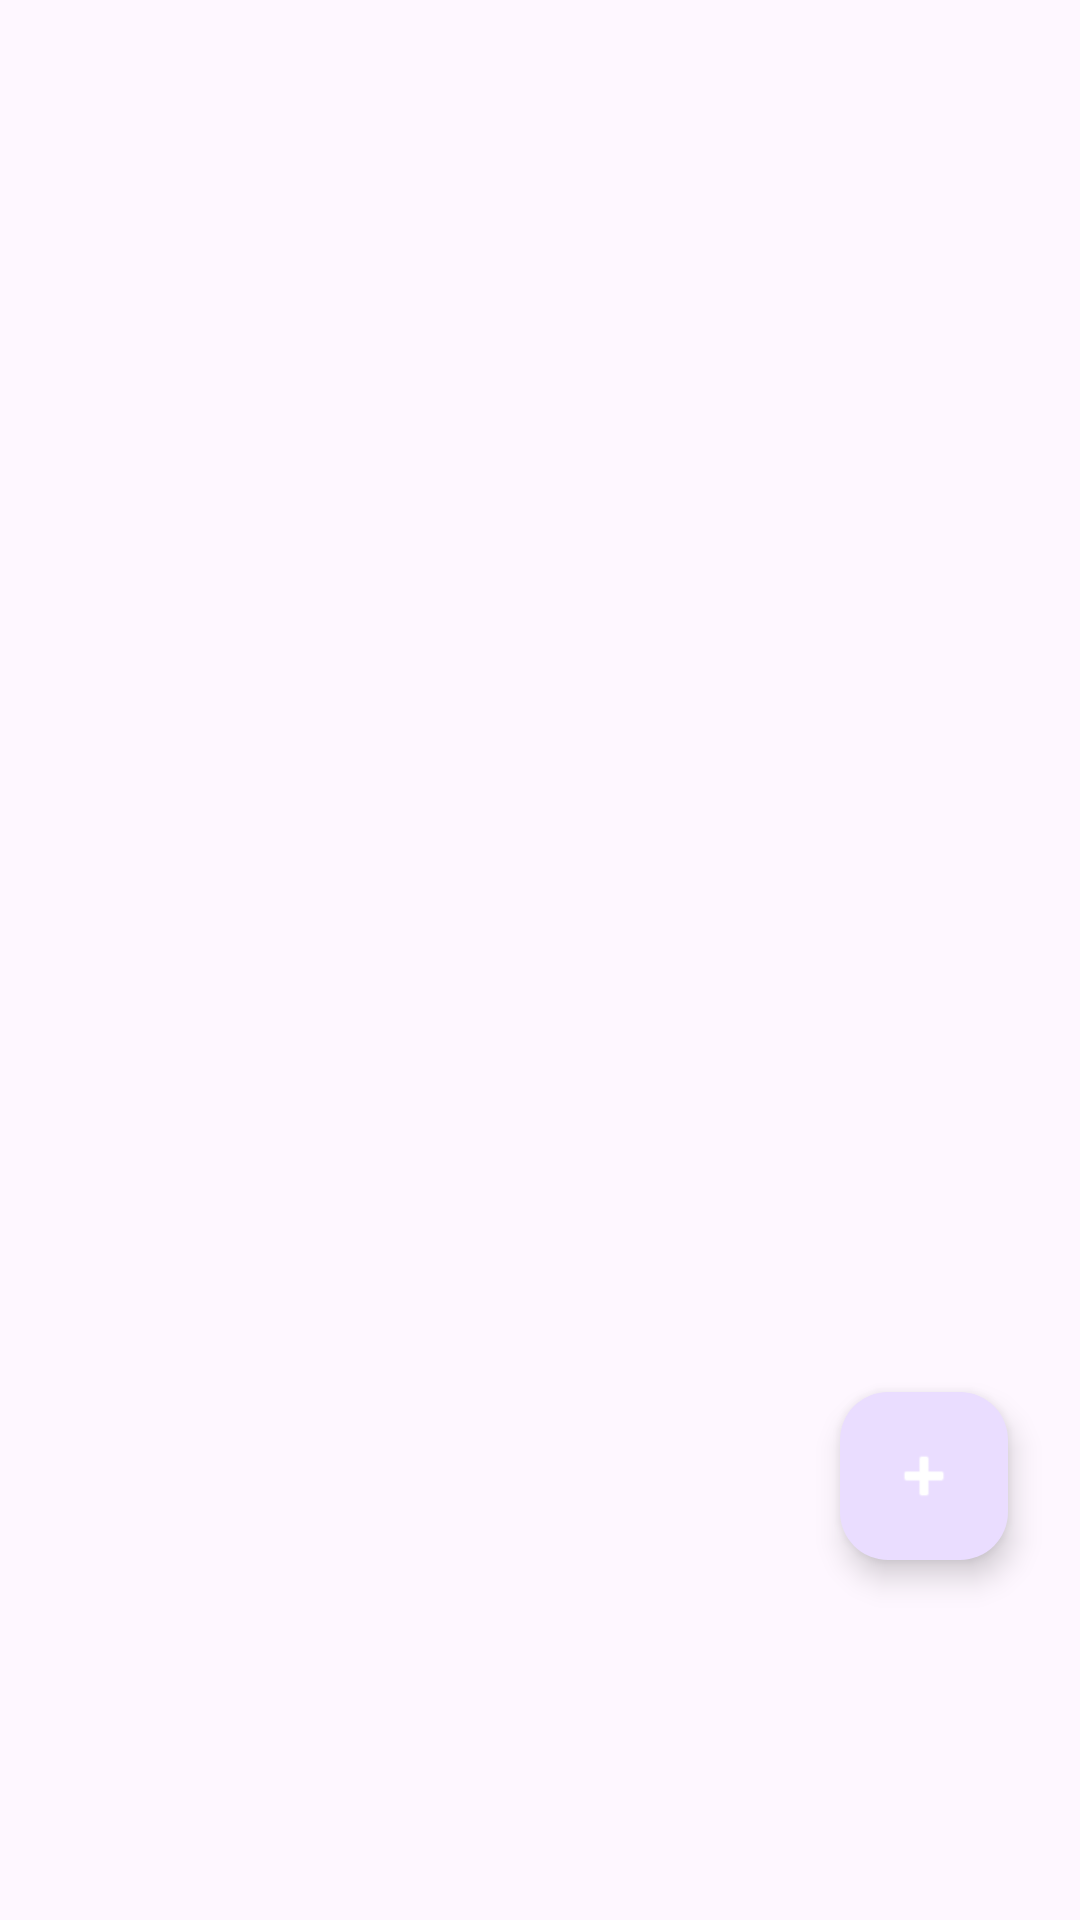

Icons on this 1080w x 1920h Android screen, each with the point to tap as [x,y]:
Add Recipe: [924,1476]
